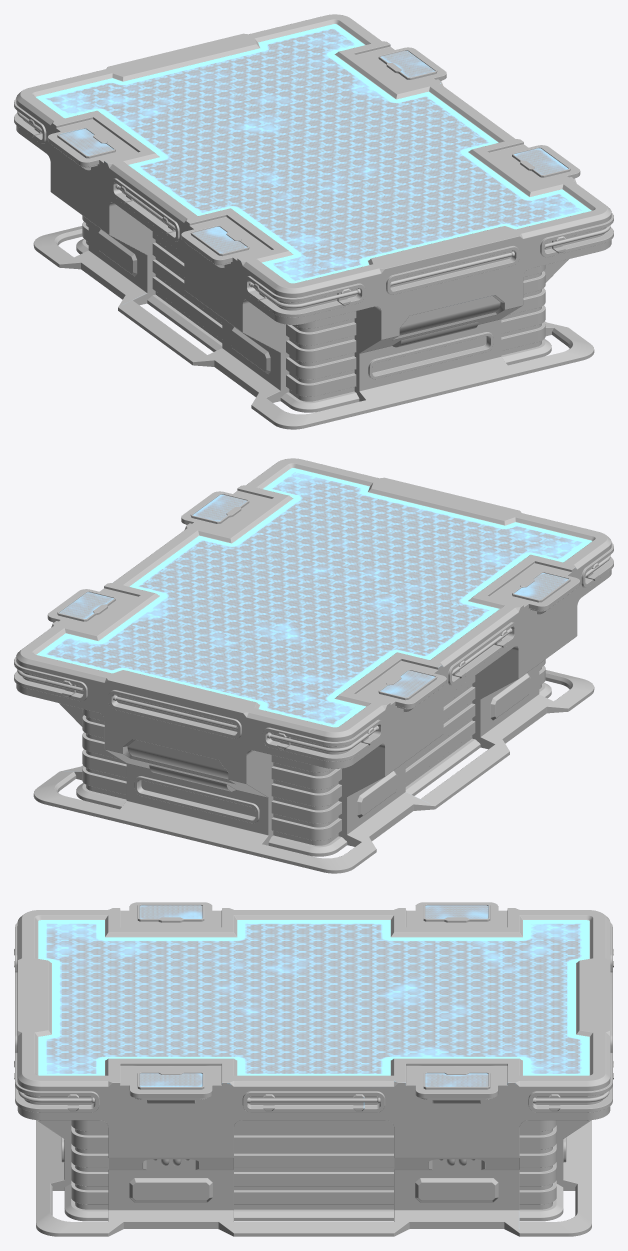
Rendered from SM_Table_Screen_table_big.fbx.
3 renders of one model, top to bottom at view 1: azimuth 30°, elevation 25°; view 2: azimuth 150°, elevation 25°; view 3: azimuth 270°, elevation 25°, orthographic. The views are drawn at different scales.
Parts seen in each view (by area): view 1: SM_Table_Screen_table_big_LOD0; view 2: SM_Table_Screen_table_big_LOD0; view 3: SM_Table_Screen_table_big_LOD0.
Part boxes in pixels (x1,y1,x2,y2): SM_Table_Screen_table_big_LOD0: (14, 14, 613, 429); SM_Table_Screen_table_big_LOD0: (14, 458, 613, 873); SM_Table_Screen_table_big_LOD0: (14, 902, 613, 1236).
Bounding box in the file's own units: 195 × 258 × 75.24.
